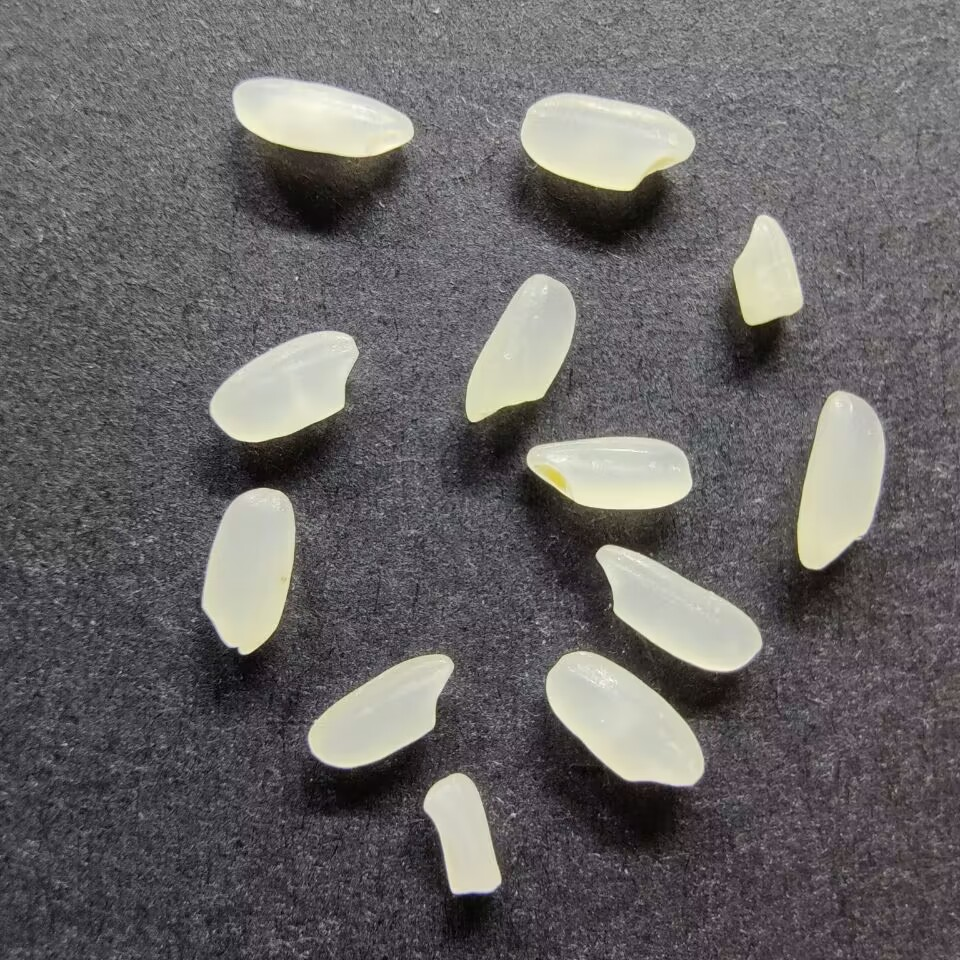broken: (421, 772, 503, 896), (730, 212, 808, 327)
rice: (545, 649, 706, 789), (593, 542, 764, 673), (517, 92, 697, 194), (463, 272, 580, 426), (205, 328, 360, 444), (305, 651, 456, 769), (795, 387, 889, 573), (199, 487, 296, 657), (229, 75, 416, 159), (523, 436, 694, 511)
